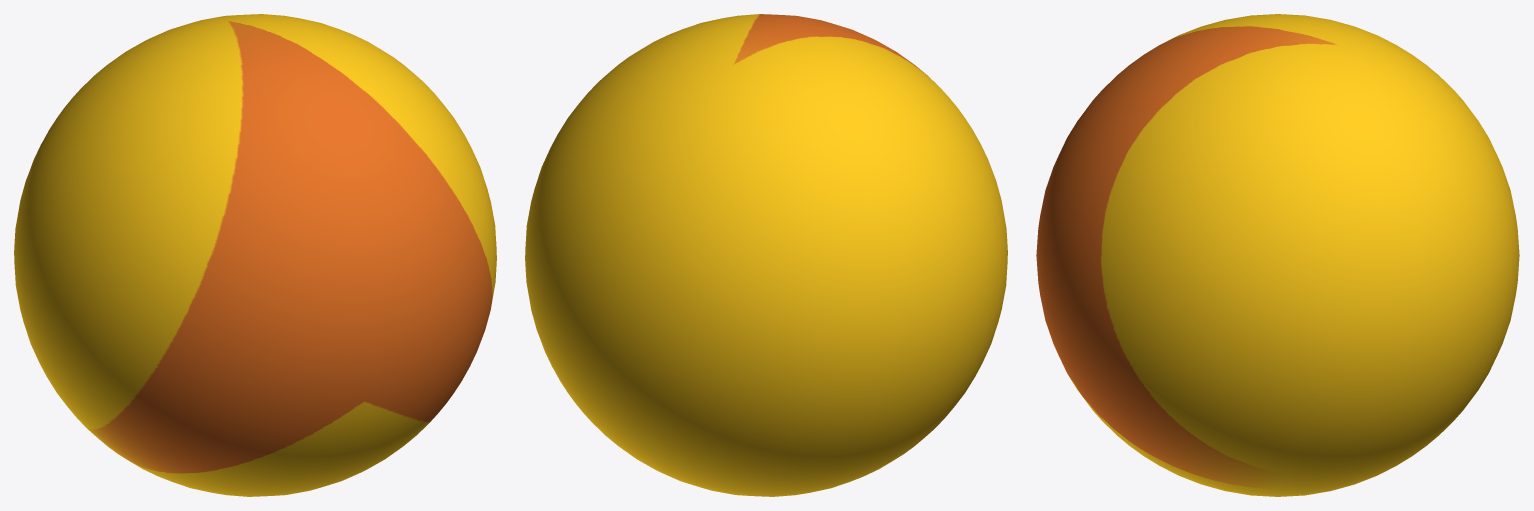
Rendered from mic.glb.
3 renders of one model, left to right at view 1: azimuth 30°, elevation 25°; view 2: azimuth 150°, elevation 25°; view 3: azimuth 270°, elevation 25°, orthographic.
Visible parts, largest first — view 1: mesh_id48; view 2: mesh_id48; view 3: mesh_id48.
Boxes of the visible parts, x1,y1,x2,y2 form: mesh_id48: (14,14,496,496); mesh_id48: (525,14,1007,496); mesh_id48: (1036,14,1519,496).
Size of the model in its own units: 0.5061 by 0.5062 by 0.5061.
1 material, 1 textured.
